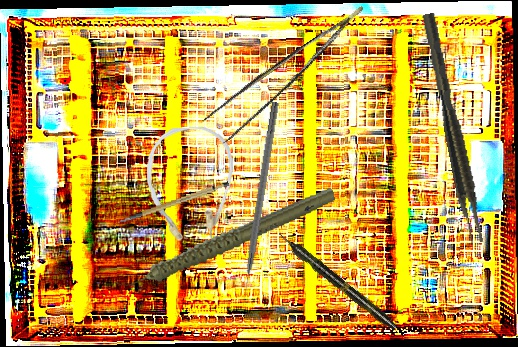Cannula: (145, 126, 236, 248)
Handpiece: (105, 186, 344, 291), (275, 228, 400, 334)
Hook Surgical: (237, 101, 281, 307)
Scalpel Handle: (114, 179, 233, 224)
Tissue Forceps: (194, 5, 383, 150), (421, 11, 487, 245)
